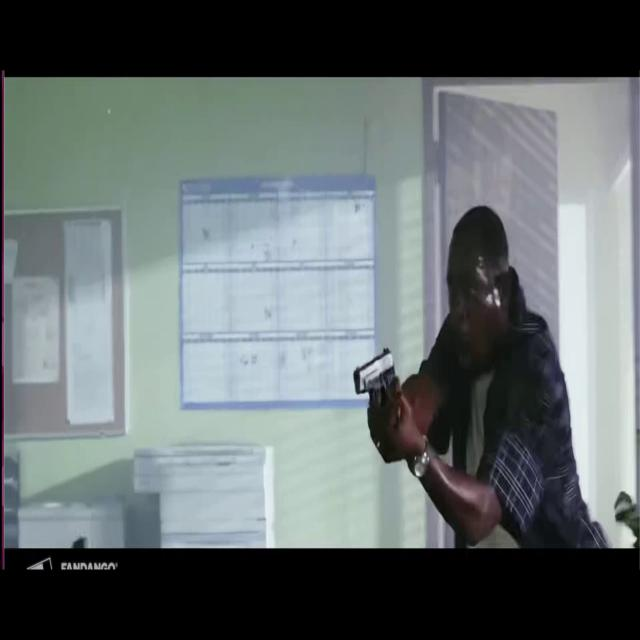weapons: (350, 329, 404, 458)
